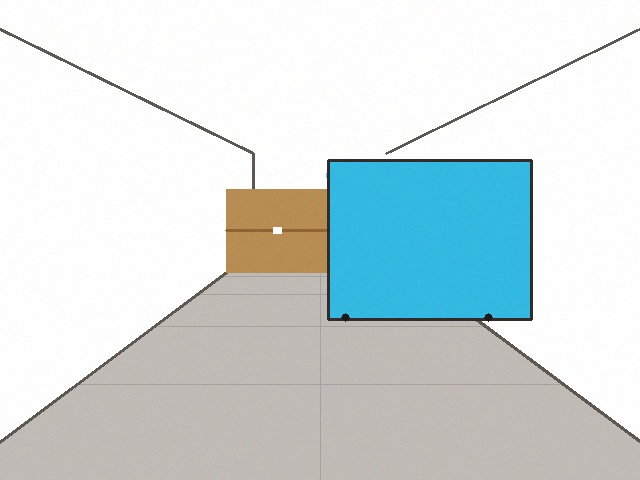box: (226, 189, 328, 272)
cart: (326, 160, 531, 319)
charging_station: (332, 164, 402, 280)
directional_sign: (443, 168, 510, 207)
